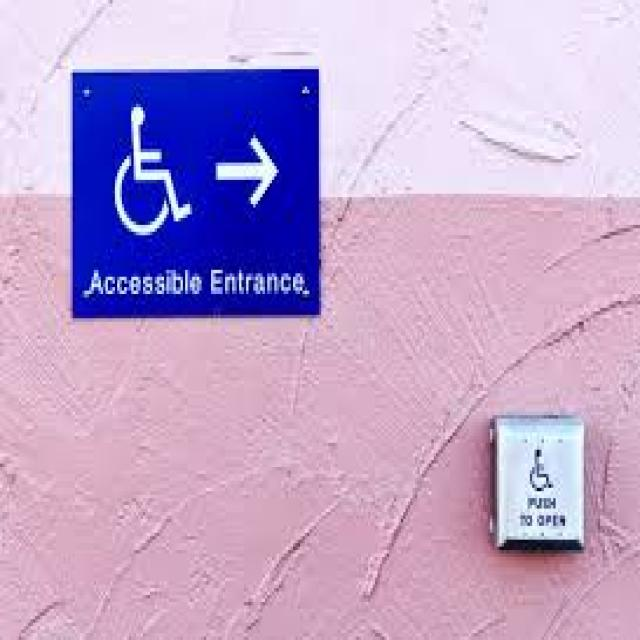car-handicap-placard: (111, 96, 198, 246), (522, 440, 560, 501)
